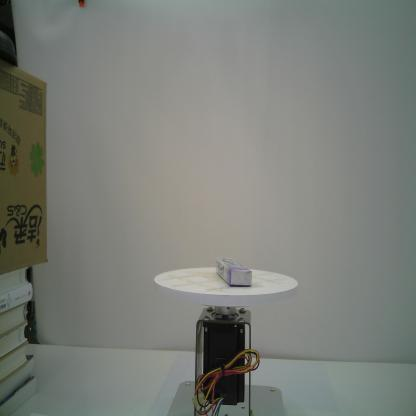Candy: (215, 254, 253, 288)
